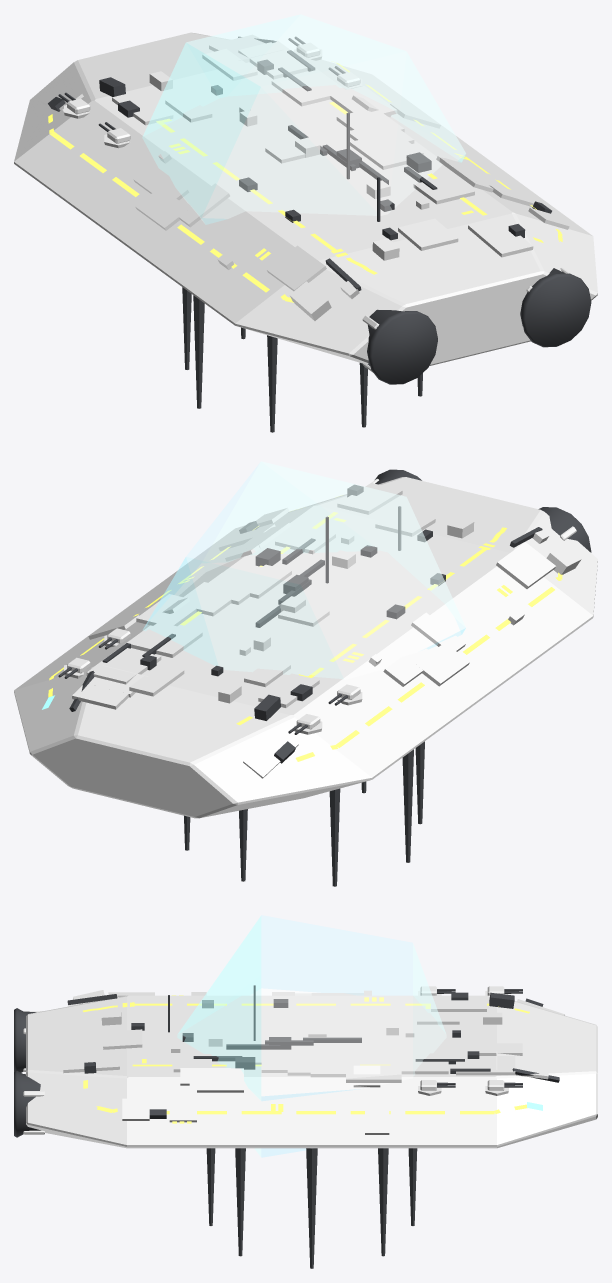
The model's file is meduza.glb.
The picture shows the model from 3 angles, top to bottom: view 1: azimuth 30°, elevation 25°; view 2: azimuth 150°, elevation 25°; view 3: azimuth 270°, elevation 25°; orthographic projection. The views are drawn at different scales.
Visible parts, largest first — view 1: Платформа, Купол, Накладные_плиты, Механика, Кожух_дюзы.001, Кожух_дюзы, Разметка, Щупальце.004, Щупальце.005, Щупальце.003; view 2: Платформа, Купол, Накладные_плиты, Механика, Разметка, Щупальце.004, Кожух_дюзы.001, Щупальце.003, Щупальце.005; view 3: Платформа, Купол, Накладные_плиты, Механика, Разметка, Кожух_дюзы, Щупальце, Щупальце.007, Щупальце.001, Кожух_дюзы.001, Щупальце.002, Щупальце.006.
Boxes of the visible parts, x1,y1,x2,y2 form: Платформа: [14, 32, 597, 365]; Купол: [142, 14, 465, 224]; Накладные_плиты: [42, 35, 569, 320]; Механика: [48, 37, 551, 290]; Кожух_дюзы.001: [367, 309, 437, 384]; Кожух_дюзы: [520, 268, 591, 347]; Разметка: [48, 63, 562, 302]; Щупальце.004: [193, 295, 204, 408]; Щупальце.005: [267, 335, 277, 432]; Щупальце.003: [182, 287, 191, 369]; Платформа: [14, 477, 597, 818]; Купол: [143, 461, 465, 679]; Накладные_плиты: [72, 483, 581, 778]; Механика: [69, 485, 542, 763]; Разметка: [48, 512, 562, 761]; Щупальце.004: [402, 749, 413, 862]; Кожух_дюзы.001: [538, 507, 591, 552]; Щупальце.003: [329, 788, 340, 886]; Щупальце.005: [415, 741, 424, 824]; Платформа: [26, 995, 597, 1148]; Купол: [177, 915, 446, 1157]; Накладные_плиты: [63, 990, 564, 1134]; Механика: [67, 985, 559, 1118]; Разметка: [83, 995, 529, 1123]; Кожух_дюзы: [14, 1070, 40, 1137]; Щупальце: [306, 1148, 317, 1268]; Щупальце.007: [235, 1148, 245, 1256]; Щупальце.001: [378, 1148, 388, 1256]; Кожух_дюзы.001: [14, 1008, 36, 1072]; Щупальце.002: [408, 1148, 417, 1225]; Щупальце.006: [206, 1148, 215, 1225].
Bounding box in the file's own units: 1.03 × 0.92 × 1.74.
